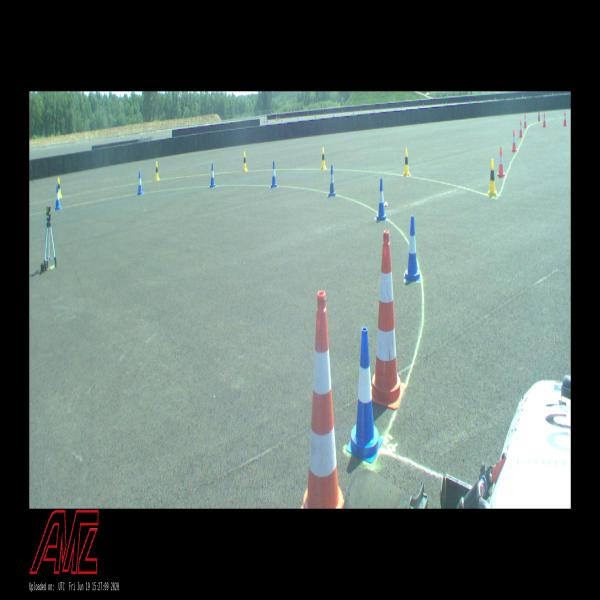blue_cone: (347, 328, 383, 463), (404, 215, 420, 281), (377, 179, 386, 220), (328, 165, 336, 196), (271, 161, 277, 188), (209, 164, 216, 187), (55, 186, 61, 209), (137, 172, 143, 194)
large_orange_cone: (300, 290, 344, 509), (371, 230, 405, 410)
orange_cone: (497, 147, 505, 177), (511, 130, 517, 151), (519, 120, 523, 137), (523, 113, 527, 128), (563, 112, 567, 125), (542, 113, 546, 126)
yellow_cone: (488, 158, 497, 195), (403, 148, 412, 176), (320, 147, 327, 169), (242, 151, 248, 171), (155, 162, 160, 180), (58, 177, 62, 197)
